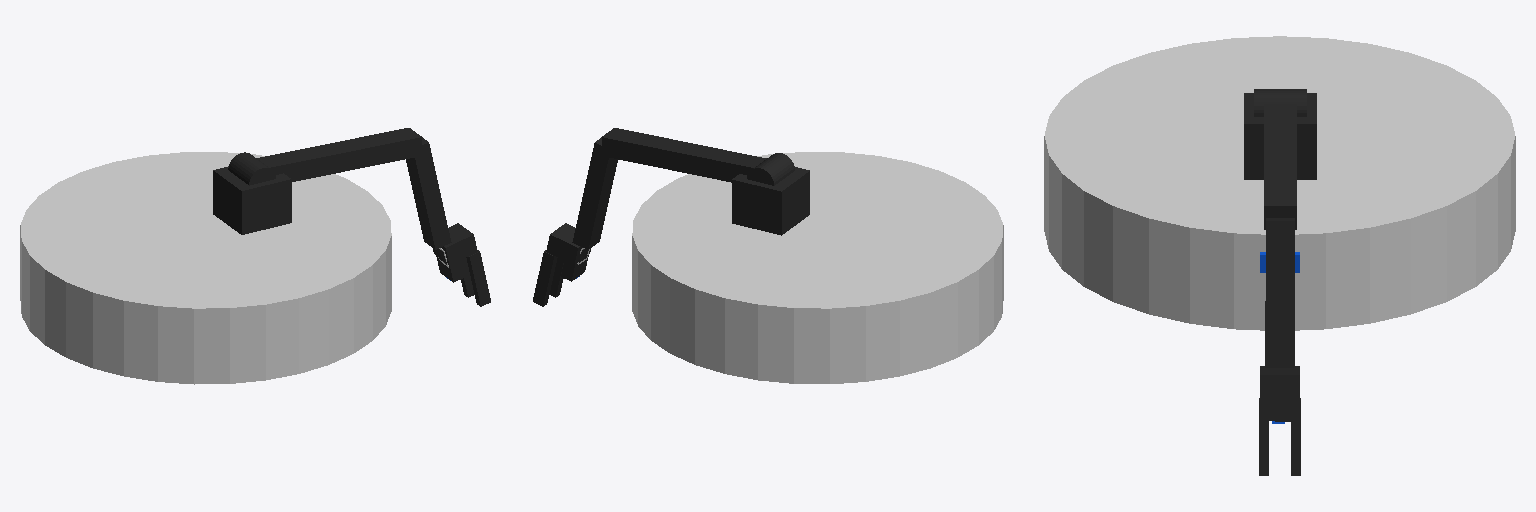
URDF robot description (z70):
<?xml version="1.0" ?><!-- =================================================================================== --><!-- |    This document was autogenerated by xacro from src/z70_description/urdf/z70.urdf.xacro | --><!-- |    EDITING THIS FILE BY HAND IS NOT RECOMMENDED                                 | --><!-- =================================================================================== --><!--
  Roborock Saros Z70 - kinematic description.
  PROVISIONAL shared geometry: config/mount_calibration.yaml, 20261015.
  L2=0.205 and the vendor shoulder reference define a coordinate gauge, NOT measured wrist anatomy.
  M4 zero/physical L2 remain confounded with unknown marker mounts. Firmware FK stays in arm_model.py.
  Display assembly length follows rough owner tape; internal wrist/finger split and M6 remain provisional.
  M5 stays at the nominal gauge station; rolling visuals are translated back along the same x axis.

  URDF joint values (radians) from app angles (degrees), computed in z70_bridge:
    m3_joint = rad(M3 - 270)      link1 absolute app angle = 270 - M3 (from +x toward up)
    m4_joint = rad(180 - M4)      link2 relative to link1 = M4 - 180
    m5_joint = -rad(M5), axis -x  => physical positive roll (live 20261014T144906Z)
    m6 fingers = rad(M6)/2 each   0 closed, 90 open
--><robot name="z70"><material name="body"><color rgba="0.85 0.85 0.85 1"/></material><material name="arm"><color rgba="0.2 0.2 0.2 1"/></material><material name="cam"><color rgba="0.1 0.4 0.9 1"/></material><link name="base_footprint"/><link name="base_link"><visual><origin xyz="0.09720000000000001 0 0.04"/><geometry><cylinder length="0.08" radius="0.1778"/></geometry><material name="body"/></visual></link><joint name="base_joint" type="fixed"><parent link="base_footprint"/><child link="base_link"/></joint><!-- front RGB camera --><link name="camera_link"><visual><geometry><box size="0.01 0.03 0.015"/></geometry><material name="cam"/></visual></link><joint name="camera_joint" type="fixed"><parent link="base_link"/><child link="camera_link"/><!-- New-run floor normal; roll is required for projector/optical-TF agreement. --><origin rpy="-0.007257016757390962 -0.02371494019965833 0" xyz="0.275 0 0.058233433935542395"/></joint><link name="camera_optical_frame"/><joint name="camera_optical_joint" type="fixed"><parent link="camera_link"/><child link="camera_optical_frame"/><origin rpy="-1.5707963267948966 0 -1.5707963267948966"/></joint><!-- Raised base: illustrative pedestal, NOT a surveyed enclosure shape.
       Keep base_footprint/odometry untouched; body nose alignment is visual only. --><link name="arm_base_pedestal_provisional"><visual><origin xyz="0 0 0.02321514576215148"/><geometry><box size="0.055 0.055 0.04643029152430296"/></geometry><material name="arm"/></visual></link><joint name="arm_base_pedestal_mount" type="fixed"><parent link="base_link"/><child link="arm_base_pedestal_provisional"/><origin xyz="0.14851727583481525 0.0005165412464665272 0.08"/></joint><!-- arm: planar chain in the x-z plane, revolute about +y --><link name="arm_shoulder_link"><visual><geometry><cylinder length="0.04" radius="0.015"/></geometry><origin rpy="1.5707963267948966 0 0"/><material name="arm"/></visual></link><link name="arm_vendor_frame"/><joint name="arm_mount" type="fixed"><parent link="base_footprint"/><child link="arm_vendor_frame"/><origin rpy="0 0 -0.0022922989427041425" xyz="0.10101740063232861 0.0006254253508872214 -0.013569708475697051"/></joint><joint name="arm_shoulder_mount" type="fixed"><parent link="arm_vendor_frame"/><child link="arm_shoulder_link"/><origin xyz="0.0475 0 0.14"/></joint><link name="arm_link1"><visual><origin xyz="0.08996244468280346 0 0"/><geometry><box size="0.1799248893656069 0.025 0.02"/></geometry><material name="arm"/></visual></link><joint name="m3_joint" type="revolute"><parent link="arm_shoulder_link"/><child link="arm_link1"/><origin rpy="0 0.039630310698817714 0"/><axis xyz="0 1 0"/><limit effort="5" lower="-3.141592653589793" upper="0" velocity="1"/></joint><link name="arm_link2"><visual><origin xyz="0.057150000000000006 0 0"/><geometry><box size="0.11430000000000001 0.022 0.018"/></geometry><material name="arm"/></visual></link><joint name="m4_joint" type="revolute"><parent link="arm_link1"/><child link="arm_link2"/><origin rpy="0 -0.039630310698817714 0" xyz="0.1799248893656069 0 0"/><axis xyz="0 1 0"/><limit effort="5" lower="0.17453292519943295" upper="2.5307274153917776" velocity="1"/></joint><!-- Camera rolls with M5 (measured 20261014T144906Z); nominal L2 is only a gauge. --><link name="gripper_camera_link"><!-- Lens is recessed below the illustrative finger plane; not a pad/hinge survey. --><visual><origin xyz="-0.002 0 0"/><geometry><box size="0.004 0.01 0.01"/></geometry><material name="cam"/></visual></link><joint name="gripper_camera_mount" type="fixed"><parent link="arm_wrist_link"/><child link="gripper_camera_link"/><origin rpy="0.002174875751192185 -0.038601534561726554 0.001844468133870814" xyz="-0.04838856956211718 -0.0011258744987861164 0.00659228305051777"/></joint><link name="gripper_camera_optical_frame"/><joint name="gripper_camera_optical_joint" type="fixed"><parent link="gripper_camera_link"/><child link="gripper_camera_optical_frame"/><origin rpy="-1.5707963267948966 0 -1.5707963267948966"/></joint><link name="arm_wrist_link"><visual><origin xyz="-0.08069999999999998 0 0.016"/><geometry><box size="0.02 0.03 0.032"/></geometry><material name="arm"/></visual><!-- Illustrative lower lens enclosure; exterior shape is not measured.
         Keep it behind the optical centre, recessed below the fingers. --><visual><origin xyz="-0.06338856956211718 -0.0011258744987861164 0.00659228305051777"/><geometry><box size="0.026 0.026 0.012"/></geometry><material name="arm"/></visual></link><joint name="m5_joint" type="revolute"><parent link="arm_link2"/><child link="arm_wrist_link"/><origin xyz="0.205 0 0"/><axis xyz="-1 0 0"/><limit effort="5" lower="-2.705260340591211" upper="0" velocity="1"/></joint><link name="finger_left"><visual><origin xyz="0.028759144981614814 0 0"/><geometry><box size="0.05751828996322963 0.008 0.012"/></geometry><material name="arm"/></visual></link><joint name="m6_left_joint" type="revolute"><parent link="arm_wrist_link"/><child link="finger_left"/><origin xyz="-0.07069999999999997 0.012 0.028"/><axis xyz="0 0 1"/><limit effort="1" lower="0" upper="0.7853981633974483" velocity="1"/></joint><link name="finger_right"><visual><origin xyz="0.028759144981614814 0 0"/><geometry><box size="0.05751828996322963 0.008 0.012"/></geometry><material name="arm"/></visual></link><joint name="m6_right_joint" type="revolute"><parent link="arm_wrist_link"/><child link="finger_right"/><origin xyz="-0.07069999999999997 -0.012 0.028"/><axis xyz="0 0 -1"/><limit effort="1" lower="0" upper="0.7853981633974483" velocity="1"/></joint><!-- ID68 is on the underside of the pincher, not at the nominal wrist.
       Preserve all three measured rotation axes; only the black square must be planar.
       Paper thickness is illustrative and offset behind the registered printed plane. --><link name="pincher_marker_68"><visual><origin xyz="0 0 -0.0002"/><geometry><box size="0.02 0.02 0.0004"/></geometry><material name="body"/></visual><visual><origin xyz="0 0 0.00005"/><geometry><box size="0.015 0.015 0.0001"/></geometry><material name="arm"/></visual></link><joint name="pincher_marker_68_mount" type="fixed"><parent link="arm_wrist_link"/><child link="pincher_marker_68"/><origin rpy="3.0950421233739274 -0.024953128353835362 1.564202731249083" xyz="-0.0762429935460632 -0.0016392305376903915 -2.4713510930205254e-06"/></joint><link name="gripper_tcp"/><joint name="tcp_joint" type="fixed"><parent link="arm_wrist_link"/><child link="gripper_tcp"/><!-- Provisional closed contact-seam midpoint, validated at M5=0 only; M5 axis station remains unmeasured. --><origin xyz="-0.04250228216791799 -0.0011288909068253214 0.019629324213822588"/></joint></robot>

--- Render facts (derived) ---
Views: 3 orthographic renders of the robot side by side, from view 1: azimuth 30°, elevation 25°; view 2: azimuth 150°, elevation 25°; view 3: azimuth 270°, elevation 25°.
Robot: z70 — 16 links, 15 joints (5 revolute, 10 fixed); root link base_footprint; default pose: all joints at 0 but 1 set to mid-range because 0 is outside their limits (m4_joint = 1.35).
Visible links, largest first — view 1: base_link, arm_link1, arm_base_pedestal_provisional, arm_link2, arm_wrist_link, arm_shoulder_link, finger_right; view 2: base_link, arm_link1, arm_base_pedestal_provisional, arm_link2, arm_wrist_link, arm_shoulder_link, finger_left; view 3: base_link, arm_link2, arm_link1, arm_base_pedestal_provisional, arm_wrist_link, arm_shoulder_link, finger_left, finger_right.
Link boxes in pixels (box(x1,y1,x2,y2)): base_link: box(20, 152, 391, 384); arm_link1: box(257, 128, 421, 181); arm_base_pedestal_provisional: box(213, 166, 291, 234); arm_link2: box(406, 137, 451, 249); arm_wrist_link: box(433, 223, 477, 282); arm_shoulder_link: box(228, 152, 275, 185); finger_right: box(466, 250, 490, 306); base_link: box(632, 152, 1003, 383); arm_link1: box(602, 128, 766, 182); arm_base_pedestal_provisional: box(732, 167, 809, 235); arm_link2: box(572, 137, 617, 249); arm_wrist_link: box(546, 223, 590, 281); arm_shoulder_link: box(747, 153, 794, 185); finger_left: box(533, 250, 557, 306); base_link: box(1044, 36, 1515, 330); arm_link2: box(1265, 218, 1294, 367); arm_link1: box(1264, 104, 1296, 229); arm_base_pedestal_provisional: box(1244, 93, 1316, 179); arm_wrist_link: box(1260, 366, 1299, 421); arm_shoulder_link: box(1254, 89, 1306, 116); finger_left: box(1291, 398, 1300, 475); finger_right: box(1259, 398, 1268, 475).
Bounding box of the posed robot: 0.4836 × 0.3556 × 0.2046 m (x, y, z).
Geometry: primitives only (box / cylinder / sphere), no mesh files.
